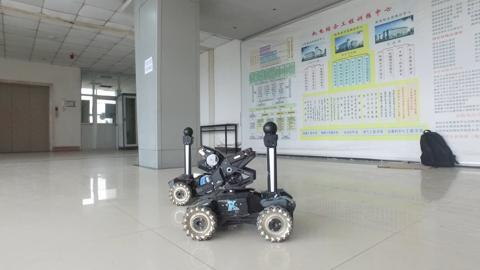chariot: (180, 120, 297, 242), (165, 124, 249, 205)
